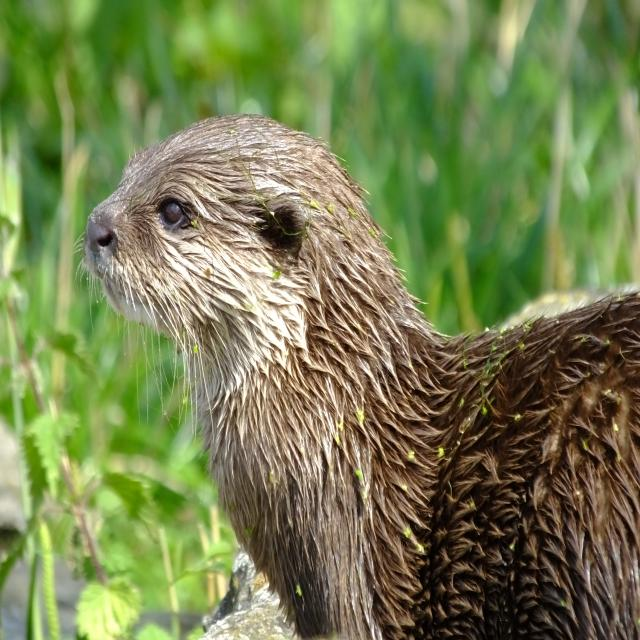otter: (88, 113, 640, 640)
